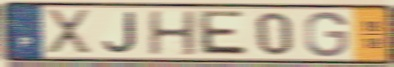0: (252, 11, 296, 57)
E: (197, 9, 250, 58)
G: (303, 10, 350, 59)
H: (146, 9, 199, 57)
J: (101, 11, 140, 55)
X: (45, 7, 94, 57)
